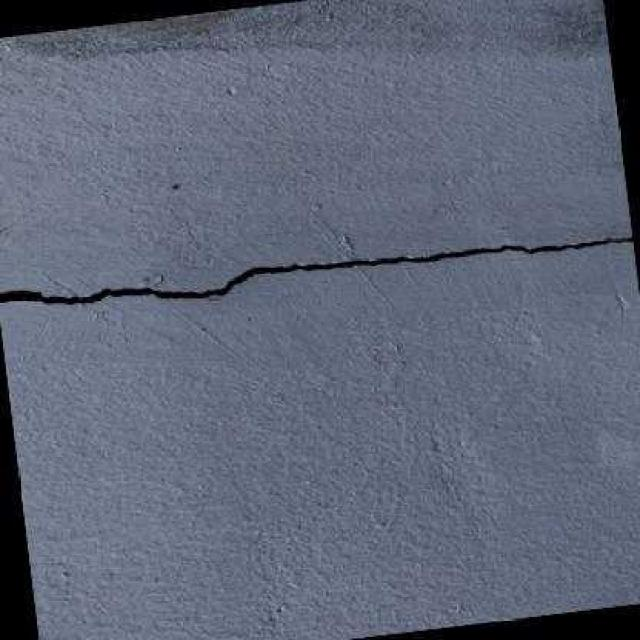D00: (0, 236, 633, 305)
